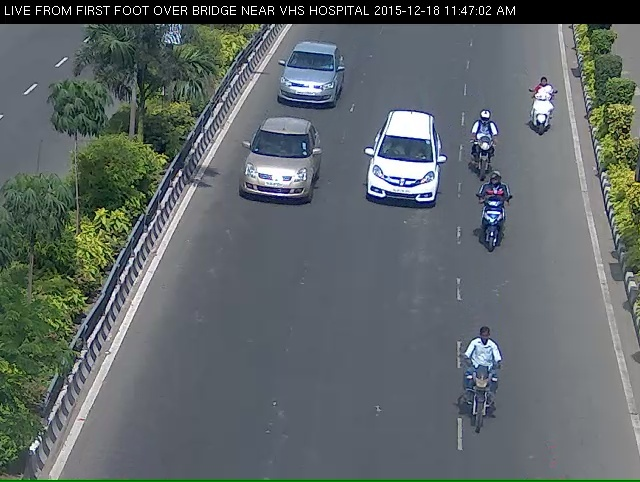Car: (355, 113, 456, 228), (229, 113, 319, 234), (273, 49, 334, 116)
Person: (460, 354, 503, 476), (480, 196, 511, 275), (468, 116, 496, 196), (531, 88, 566, 152)
